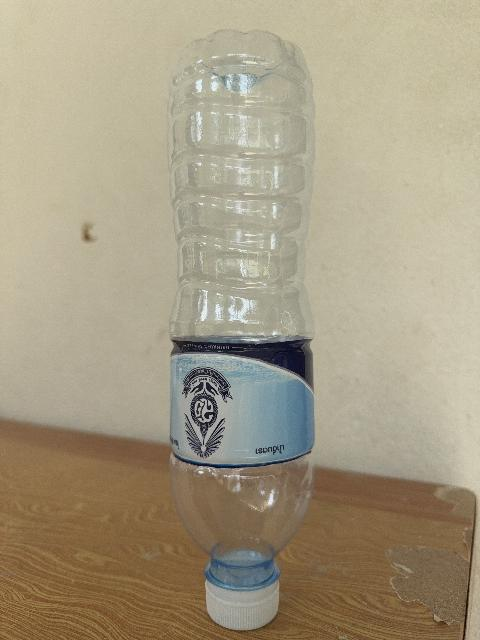bottle: (169, 31, 314, 629)
